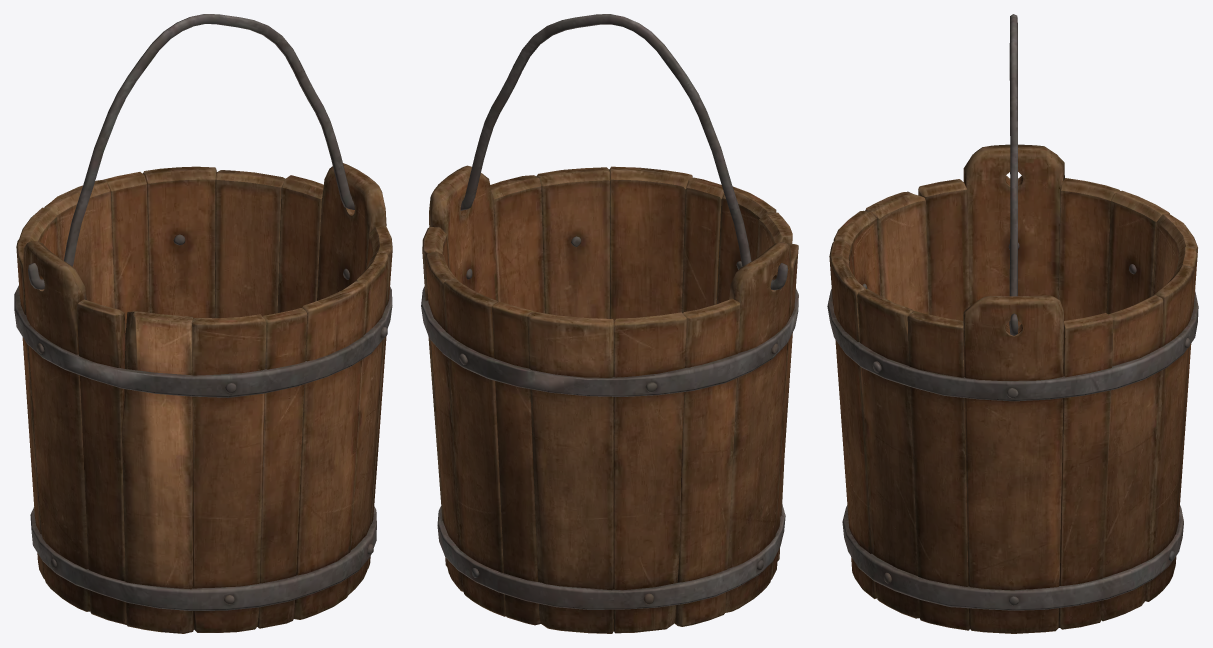
File: wooden_bucket_01.glb
3 renders of one model, left to right at view 1: azimuth 30°, elevation 25°; view 2: azimuth 150°, elevation 25°; view 3: azimuth 270°, elevation 25°, orthographic.
Parts seen in each view (by area): view 1: wooden_bucket_01; view 2: wooden_bucket_01; view 3: wooden_bucket_01.
Part boxes in pixels (x1=…): wooden_bucket_01: x1=14, y1=14, x2=392, y2=633; wooden_bucket_01: x1=421, y1=14, x2=798, y2=633; wooden_bucket_01: x1=827, y1=14, x2=1198, y2=633.
Size of the model in its own units: 0.367 by 0.5499 by 0.3422.
1 material, 1 textured.
